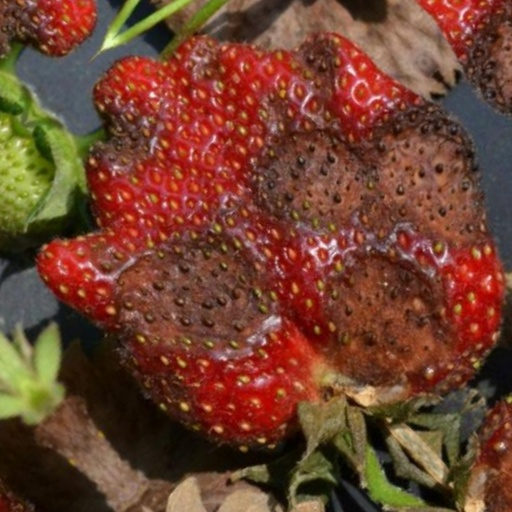Anthracnose Fruit Rot: (79, 17, 500, 485)
